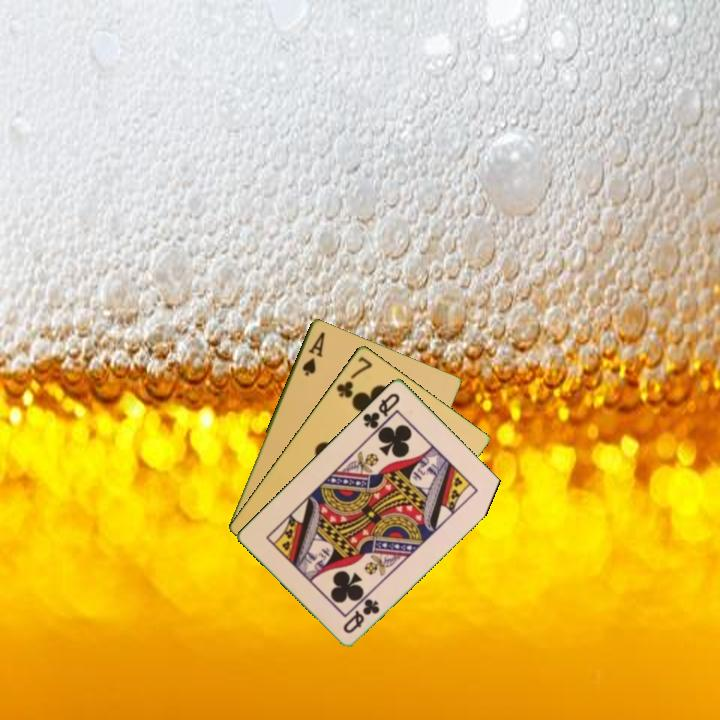7c: (333, 352, 375, 401)
As: (298, 328, 328, 379)
Qc: (359, 389, 403, 436), (339, 594, 383, 636)
